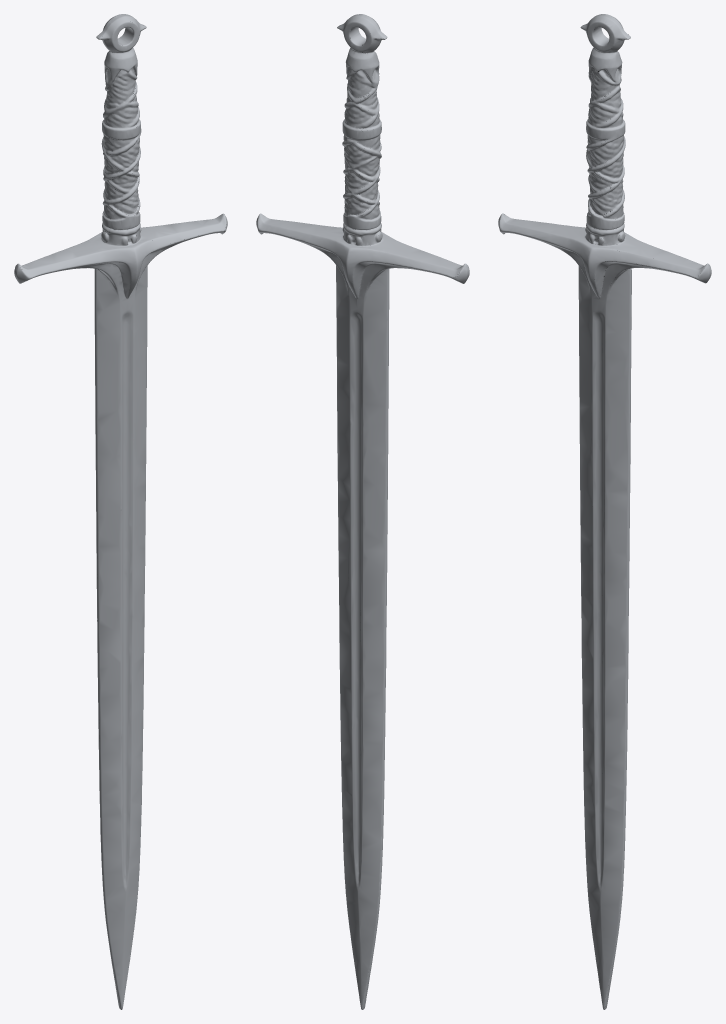
File: Sword3.glb
3 views of the same model, side by side, from view 1: azimuth 30°, elevation 25°; view 2: azimuth 150°, elevation 25°; view 3: azimuth 330°, elevation 25° (orthographic).
Parts seen in each view (by area): view 1: Mesh_0; view 2: Mesh_0; view 3: Mesh_0.
Boxes of the visible parts, bbox=[...] form: Mesh_0: bbox=[14, 14, 227, 1009]; Mesh_0: bbox=[256, 14, 469, 1009]; Mesh_0: bbox=[498, 14, 711, 1009].
Size of the model in its own units: 0.4257 by 1.91 by 0.1138.
1 material, 1 textured.
